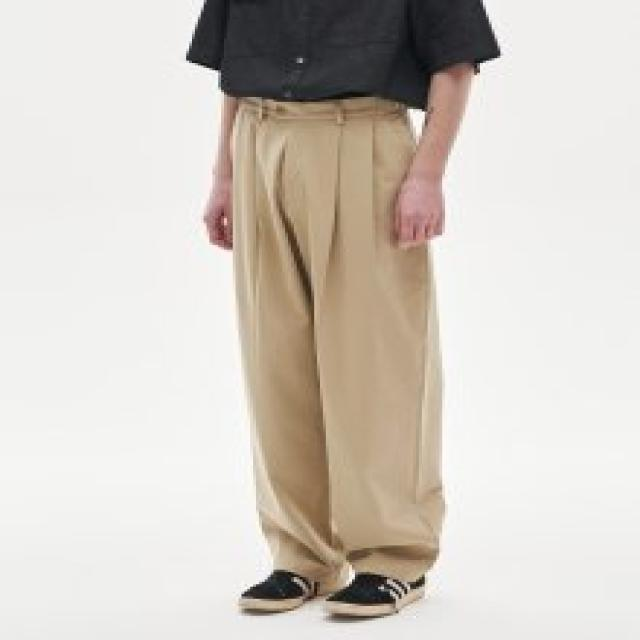long-pants: (228, 92, 450, 590)
